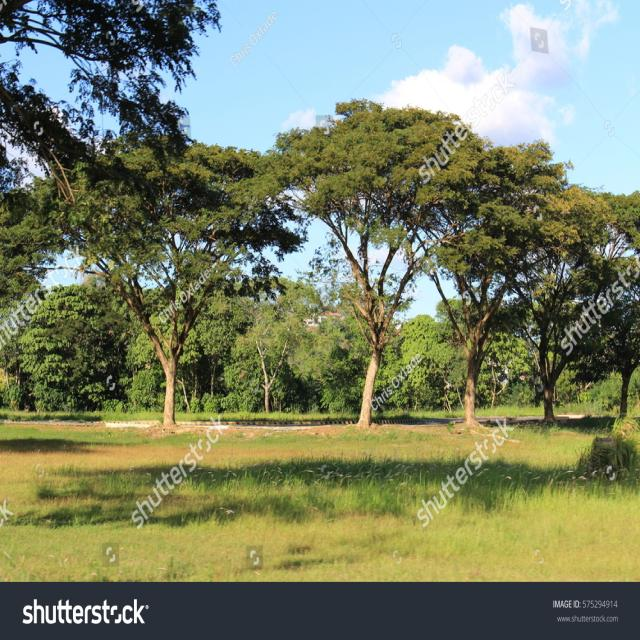Acacia: (302, 92, 636, 419)
